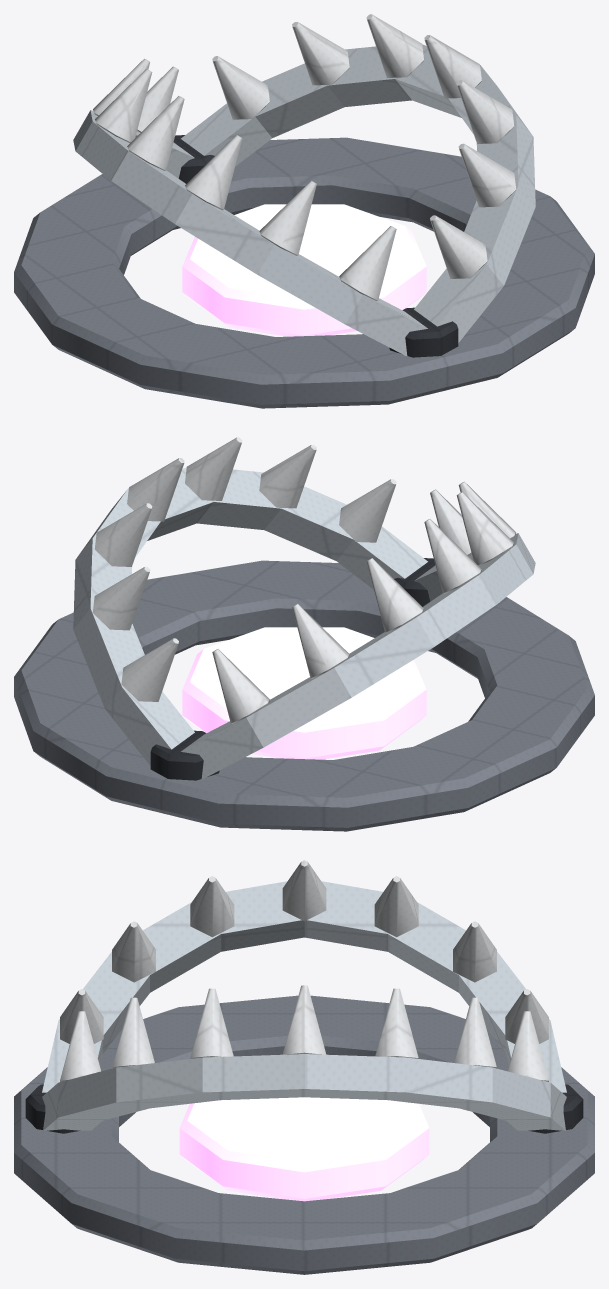
Rendered from R4D_SnareTrap_LOD1.glb.
The picture shows the model from 3 angles, top to bottom: view 1: azimuth 30°, elevation 25°; view 2: azimuth 150°, elevation 25°; view 3: azimuth 270°, elevation 25°; orthographic projection. The views are drawn at different scales.
Visible parts, largest first — view 1: R4D_SnareTrap_LOD1; view 2: R4D_SnareTrap_LOD1; view 3: R4D_SnareTrap_LOD1.
Part boxes in pixels (bbox=[...]): R4D_SnareTrap_LOD1: bbox=[14, 14, 594, 408]; R4D_SnareTrap_LOD1: bbox=[14, 437, 594, 831]; R4D_SnareTrap_LOD1: bbox=[14, 860, 594, 1274].
Size of the model in its own units: 0.47 by 0.1997 by 0.4582.
5 materials, 4 textured.
